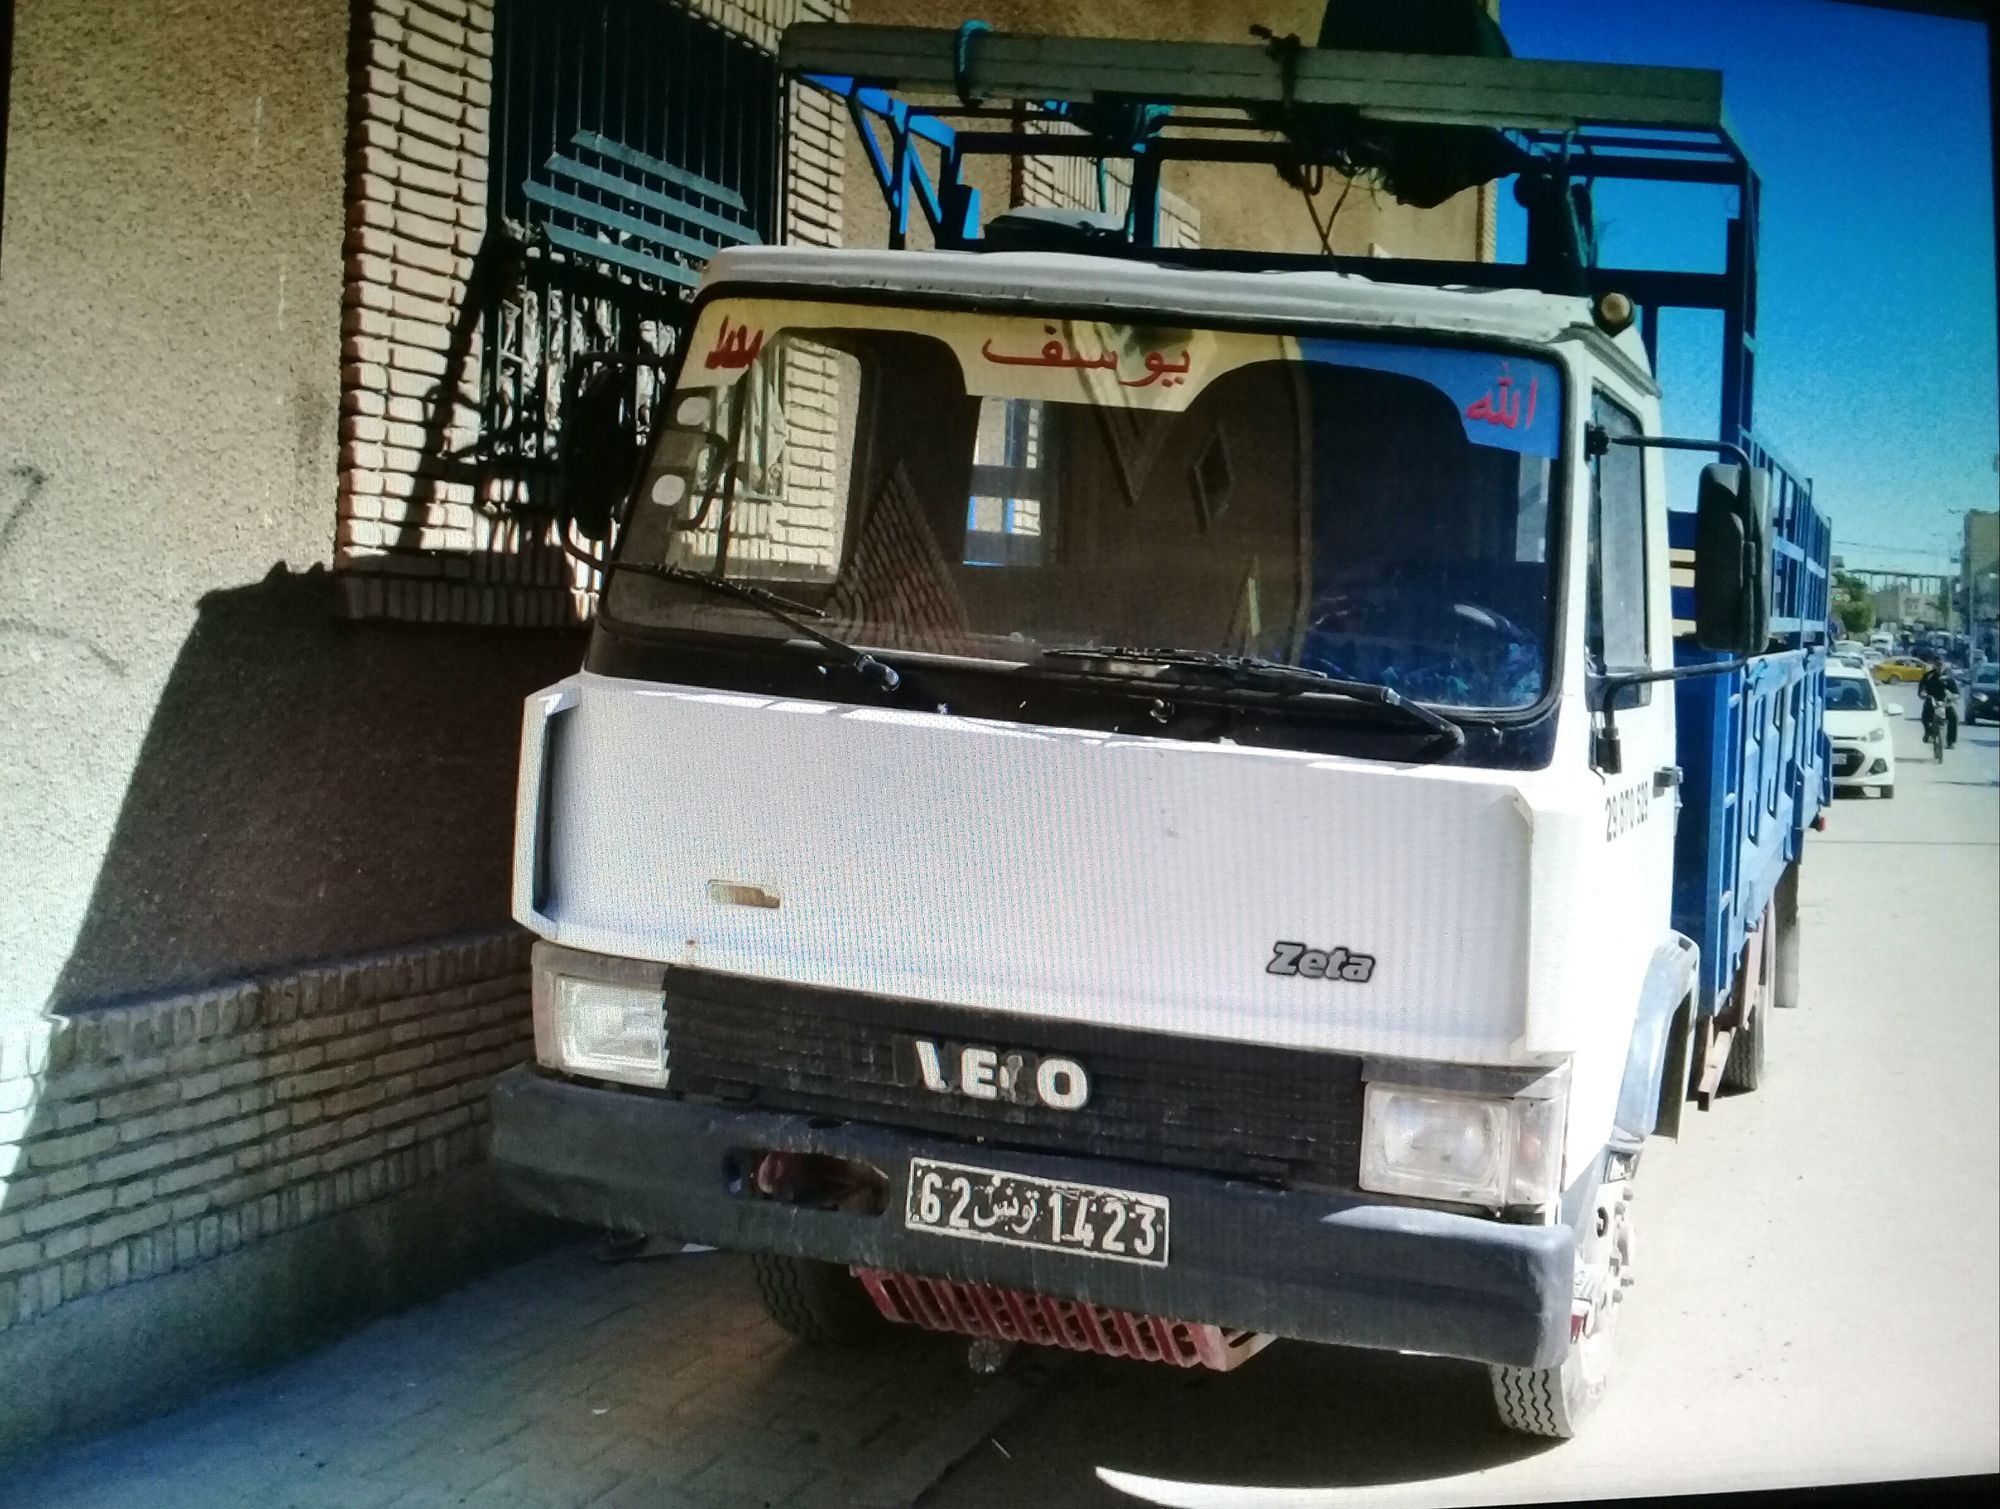LP: (904, 1152, 1176, 1273)
